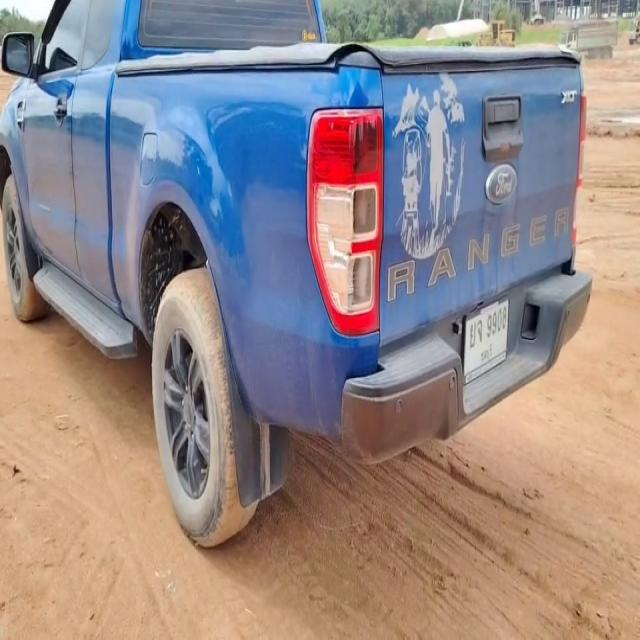Digit: (487, 307, 508, 339)
Licenseplate: (462, 293, 511, 389)
Provincename: (479, 342, 495, 363)
Thaichar: (468, 318, 482, 348)
